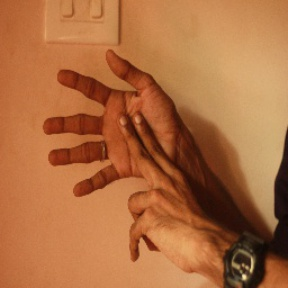N: (39, 48, 196, 248)
